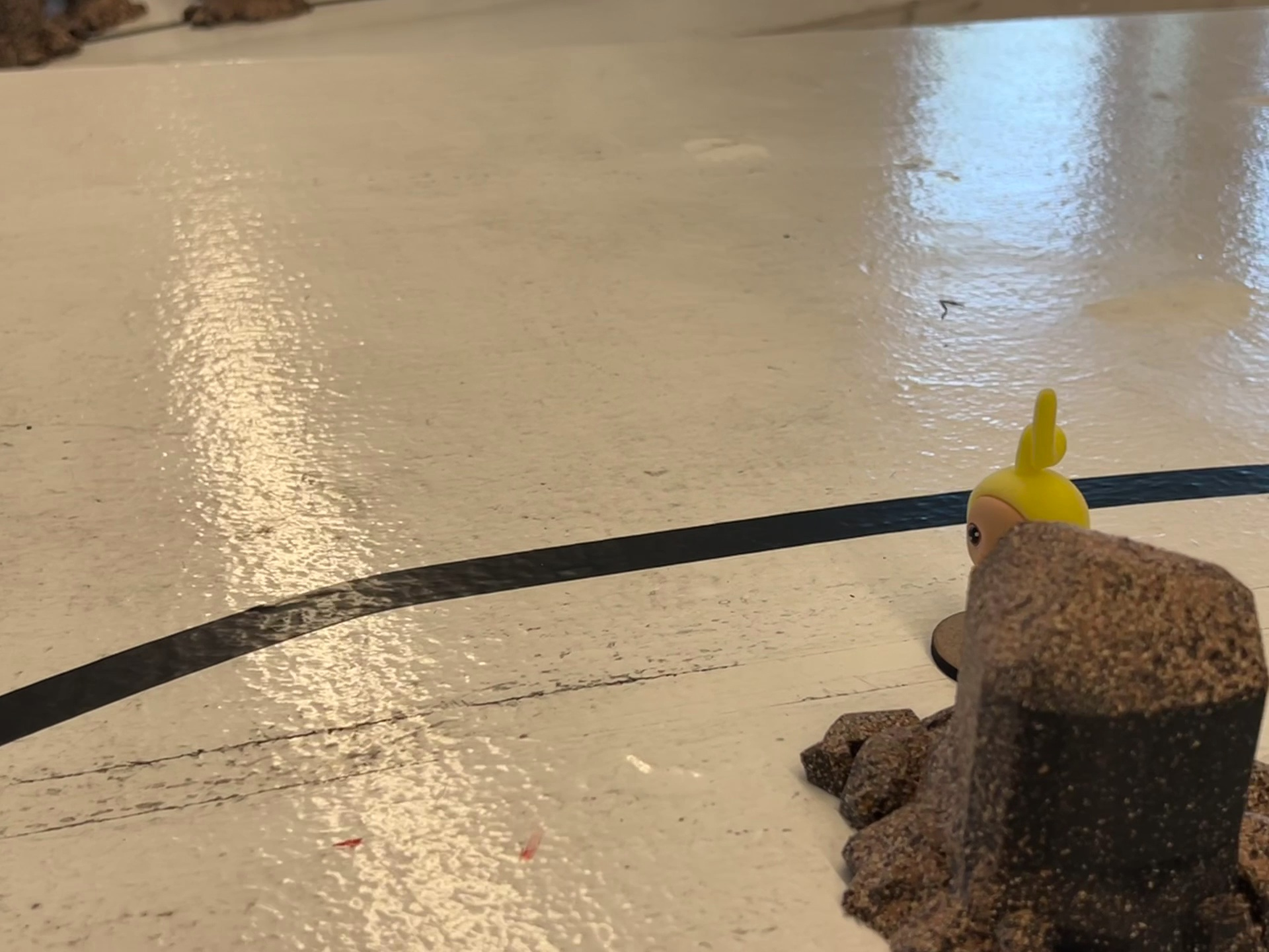teletubby: (965, 389, 1089, 566)
